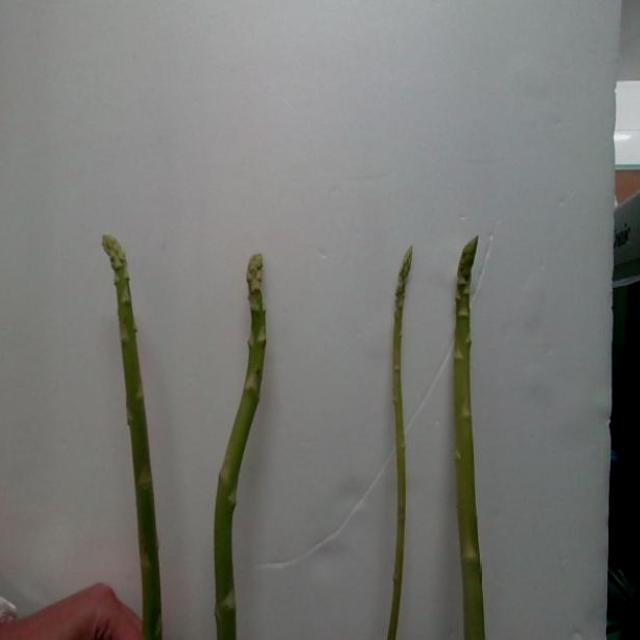aspargus: (102, 237, 164, 640), (215, 254, 271, 640), (452, 237, 495, 640), (386, 257, 413, 640)
